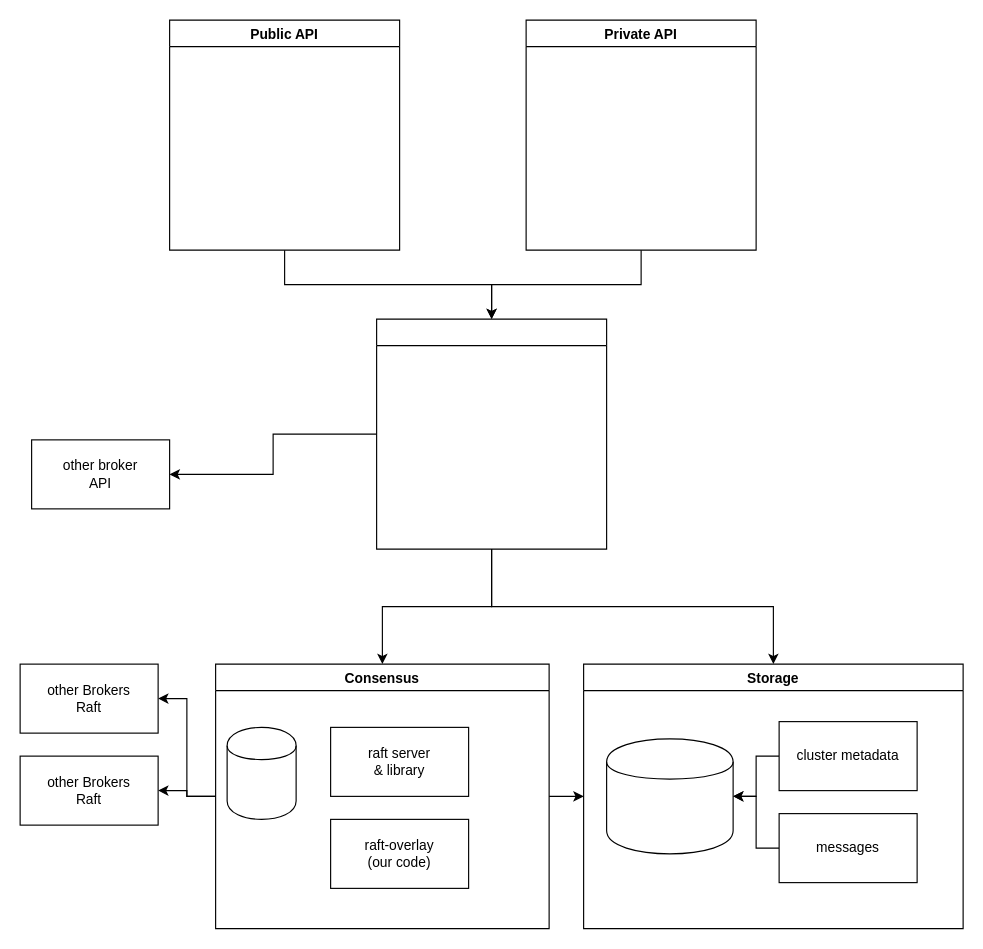
Image size: 983x949. Some labels were removed from this diagram. Here are the shapes that lost their labels. From the top down, the centre of each, then its label:
the point at 491,433: Router
the point at 261,772: raft commit log
the point at 669,796: badgerDB
